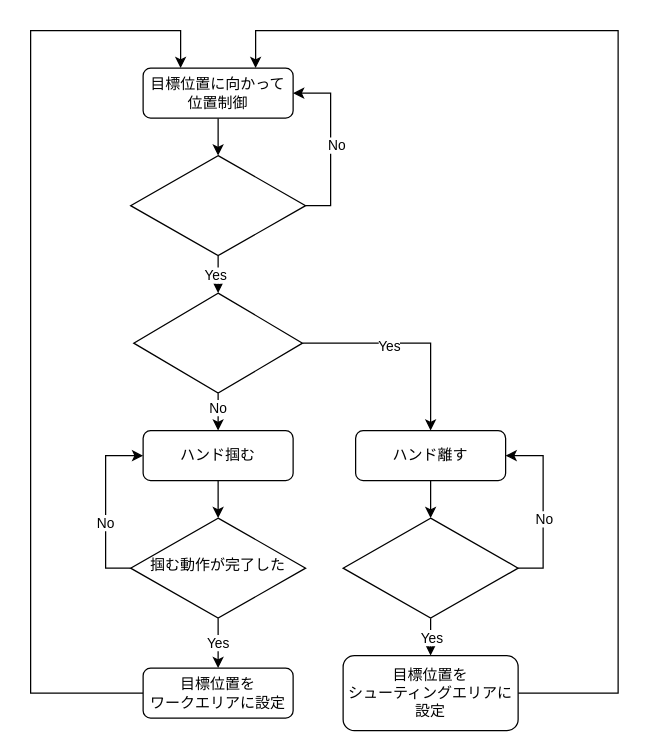
Image size: 650x753. Some labels were removed from this diagram. Here are the shapes that lost their labels. From the top down, the box of each, then its label:
(129, 154, 306, 256): 目標位置に到達した
(132, 292, 302, 393): ワークを持っている
(342, 517, 518, 618): 離す動作が完了した
